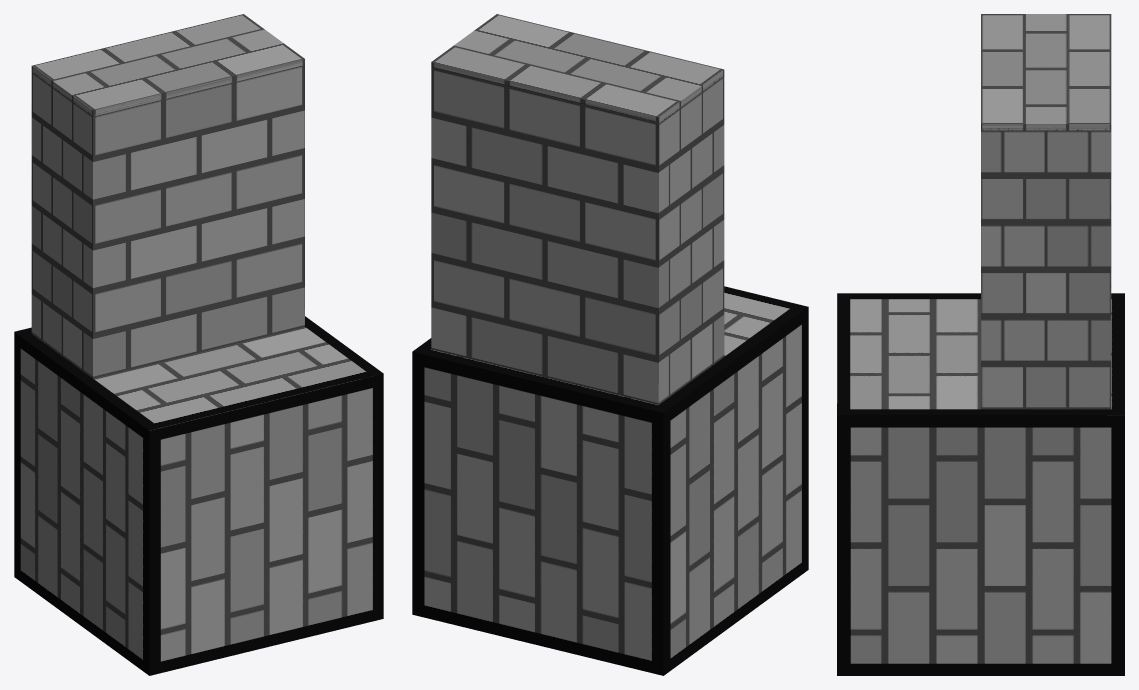
Rendered from BricksWall_top.glb.
3 views of the same model, side by side, from view 1: azimuth 30°, elevation 25°; view 2: azimuth 150°, elevation 25°; view 3: azimuth 270°, elevation 25° (orthographic). The views are drawn at different scales.
Visible parts, largest first — view 1: BricksWall.South.Join.Baked_v2; view 2: BricksWall.South.Join.Baked_v2; view 3: BricksWall.South.Join.Baked_v2.
Part boxes in pixels (x1,y1,x2,y2): BricksWall.South.Join.Baked_v2: [14, 14, 383, 675]; BricksWall.South.Join.Baked_v2: [412, 14, 808, 675]; BricksWall.South.Join.Baked_v2: [837, 14, 1124, 675].
Bounding box in the file's own units: 0.98 × 2.05 × 0.98.
1 material, 1 textured.
